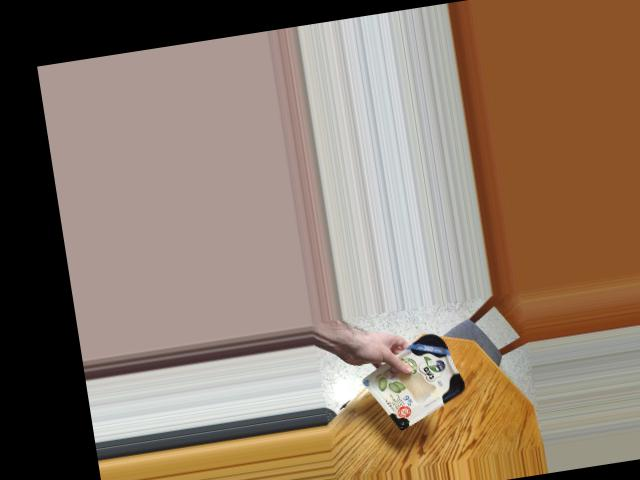cheese: (366, 324, 469, 428)
